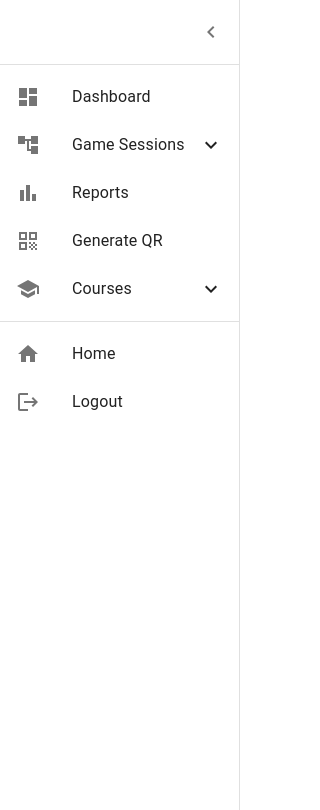
Test: <SideMenu /> › Game Management Button › should reveal 1 new button when clicked as a faculty
This screenshot has width=320, height=810.
Click the button with test id "game-session-manage-item" at (120, 145), box x1=16 y1=133 x2=223 y2=157
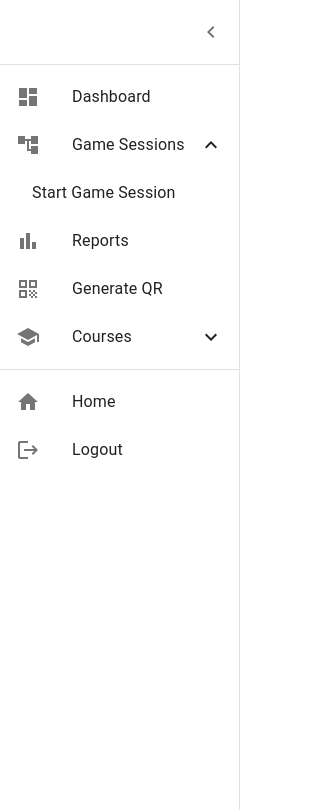
Expected: the link with test id "session-start-item" is enabled, x1=32 y1=183 x2=176 y2=202
